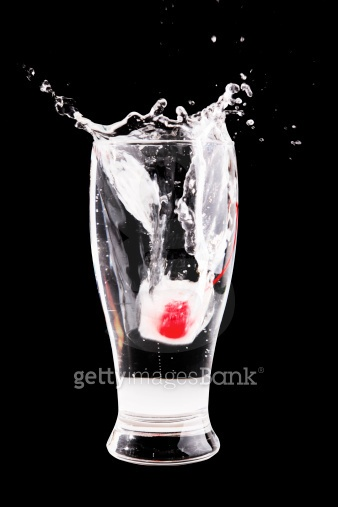glass of water: (81, 108, 247, 468)
